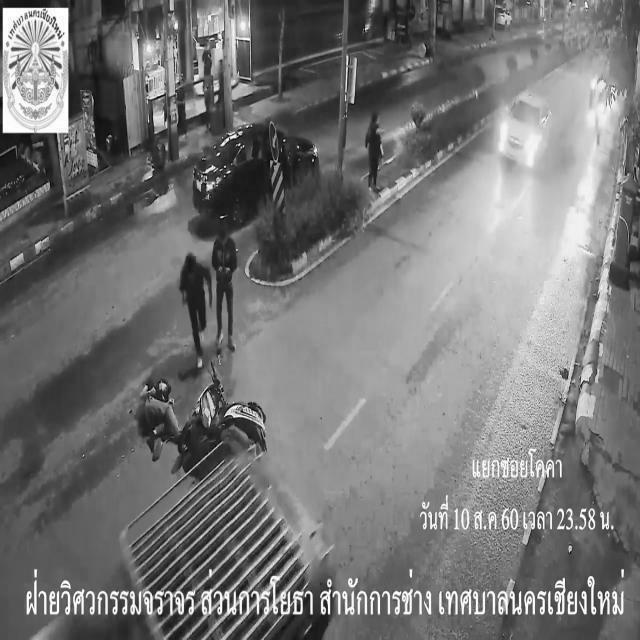accident: (127, 360, 278, 482)
vehicle: (188, 115, 322, 228), (498, 85, 555, 170)
